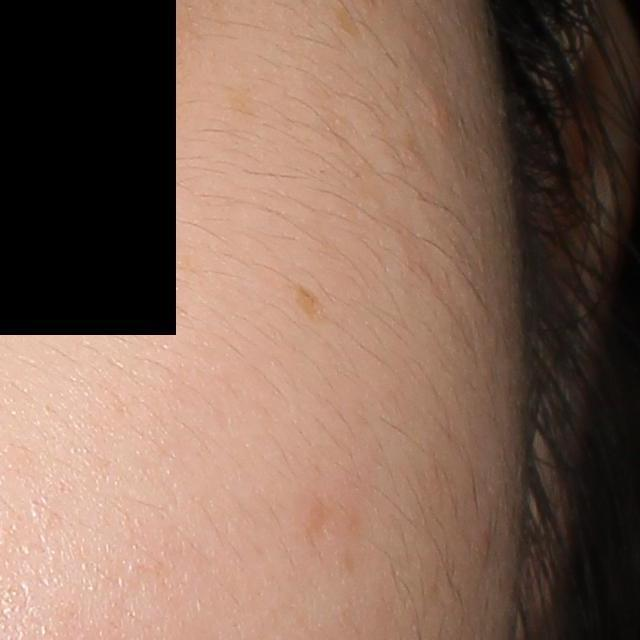melasma: (220, 83, 268, 128), (292, 282, 330, 321), (330, 3, 365, 44)
